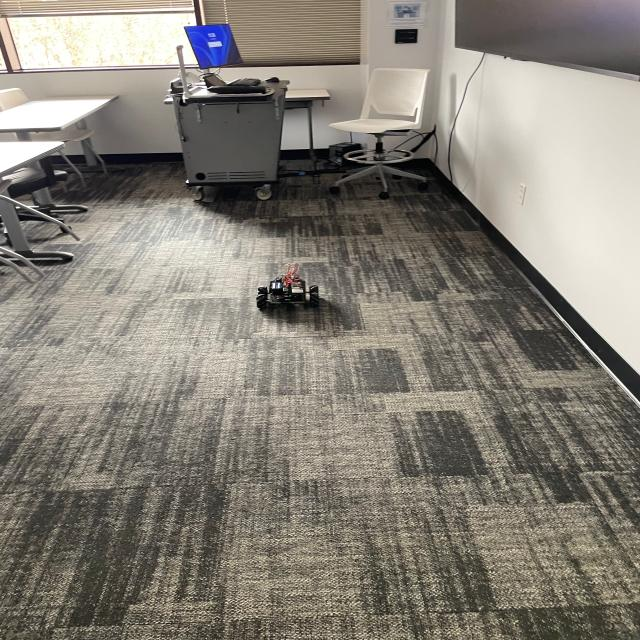ArduinoCar: (257, 264, 318, 307)
